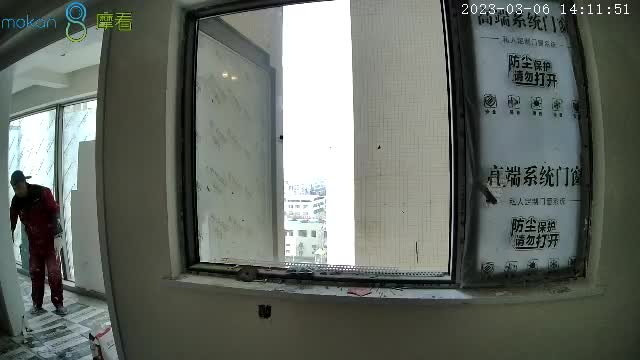people: (5, 171, 68, 314)
window: (186, 11, 587, 284), (6, 97, 100, 289)
